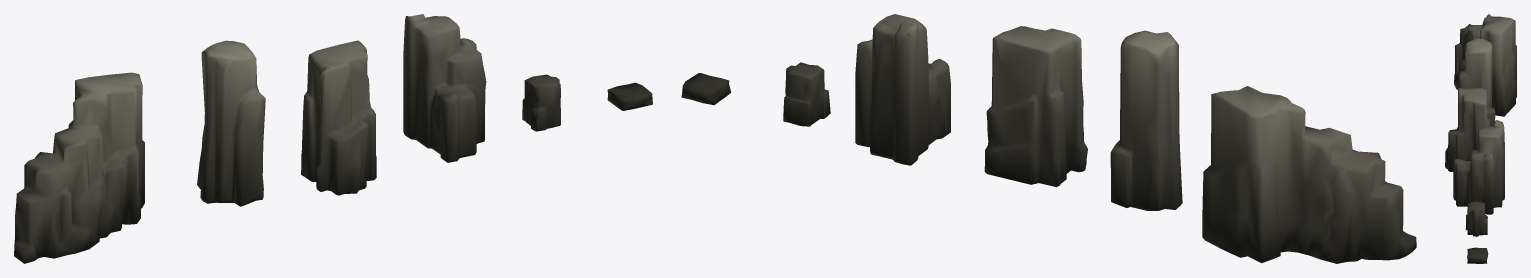
File: RocksLowPoly.obj
3 views of the same model, side by side, from view 1: azimuth 30°, elevation 25°; view 2: azimuth 150°, elevation 25°; view 3: azimuth 270°, elevation 25° (orthographic). The views are drawn at different scales.
Parts seen in each view (by area): view 1: mesh01, mesh04, mesh03, mesh02, mesh05, mesh06; view 2: mesh01, mesh03, mesh04, mesh02, mesh05, mesh06; view 3: mesh04, mesh01, mesh03, mesh02, mesh05, mesh06.
Boxes of the visible parts, <box> form: mesh01: <box>14,72,144,263</box>; mesh04: <box>403,14,486,162</box>; mesh03: <box>301,40,376,195</box>; mesh02: <box>197,40,265,206</box>; mesh05: <box>522,74,560,131</box>; mesh06: <box>607,82,652,110</box>; mesh01: <box>1202,86,1416,263</box>; mesh03: <box>984,26,1087,186</box>; mesh04: <box>855,14,950,165</box>; mesh02: <box>1110,30,1182,210</box>; mesh05: <box>783,62,830,126</box>; mesh06: <box>681,73,731,104</box>; mesh04: <box>1453,120,1504,214</box>; mesh01: <box>1454,14,1516,116</box>; mesh03: <box>1445,88,1489,171</box>; mesh02: <box>1458,38,1495,126</box>; mesh05: <box>1465,201,1487,236</box>; mesh06: <box>1467,247,1488,263</box>.
Size of the model in its own units: 177 by 39.88 by 27.65.
Materials: 1 (1 with a texture image).
